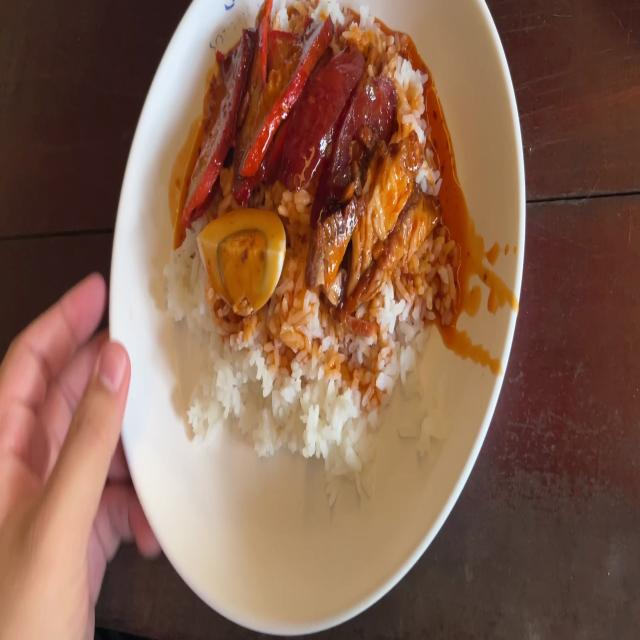01boiled_egg: (200, 208, 285, 301)
01chainese_sausage: (286, 53, 393, 186)
01crispy_pork: (332, 152, 444, 301)
01red_pork: (186, 17, 316, 204)
01red_pork_and_crispy_pork: (174, 0, 448, 462)
01rice: (199, 310, 403, 450)
